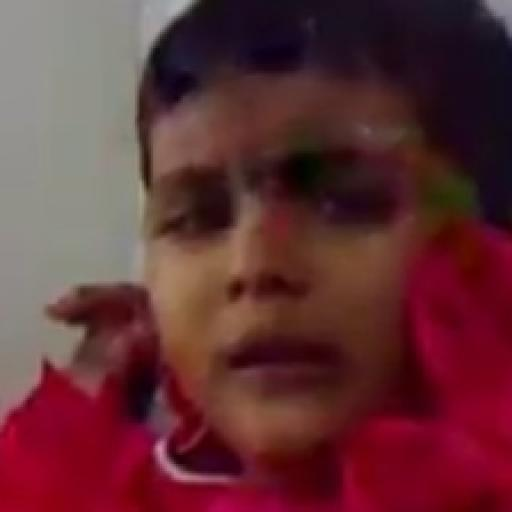Autism: (110, 21, 512, 492)
